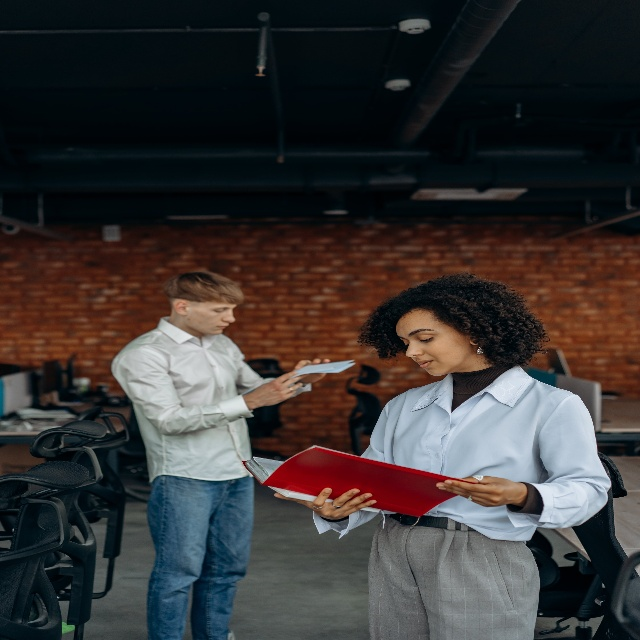Sin_guantes: (273, 485, 377, 522), (436, 473, 516, 509), (253, 371, 302, 408), (293, 354, 331, 385)
